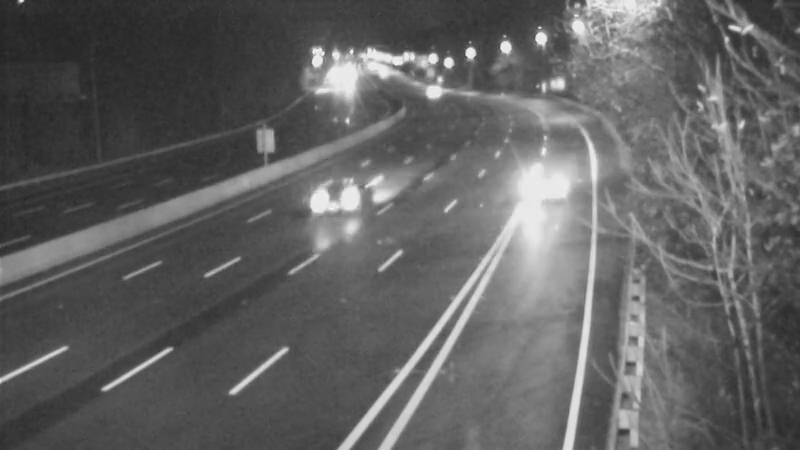vehicle: (500, 141, 580, 221), (299, 152, 379, 232), (396, 60, 446, 110)
